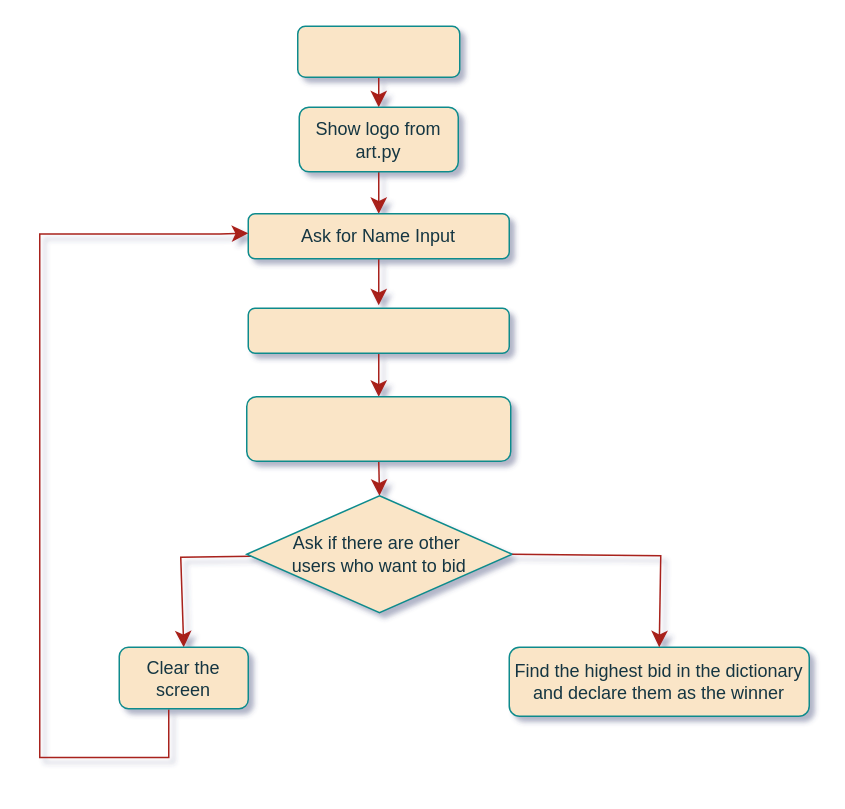
The diagram is 845 pixels wide and 809 high, and some of its shapes have lost their labels. Here are the shapes that lost their labels. From the top down, the centre of each, then its label:
At point 378,51: "START".
At point 378,330: "Ask for Bid Price".
At point 378,428: "Add Name and Bid into a dictionary as the key and value".
